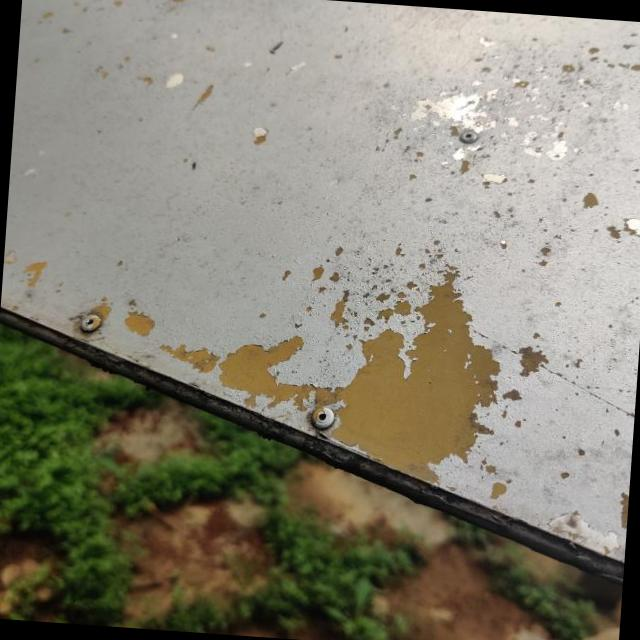Paint-off: (220, 269, 500, 481)
